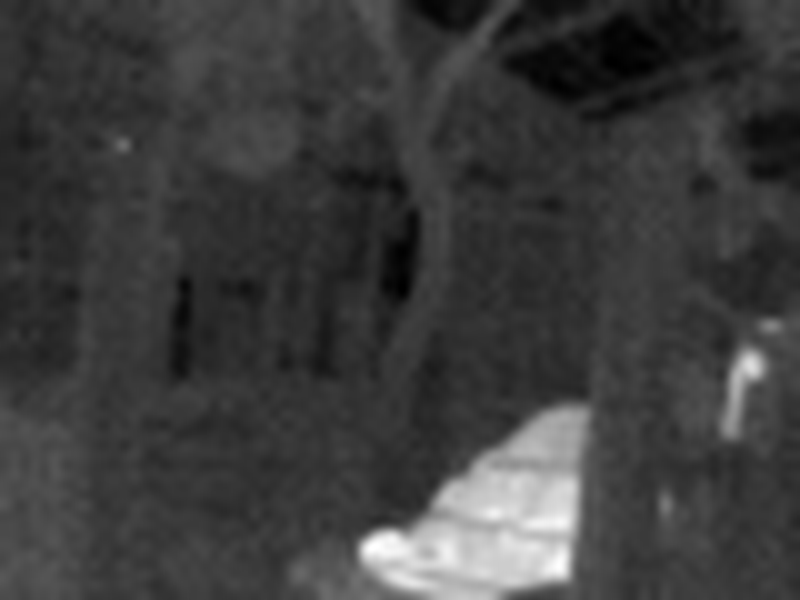elephant: (327, 401, 657, 600)
